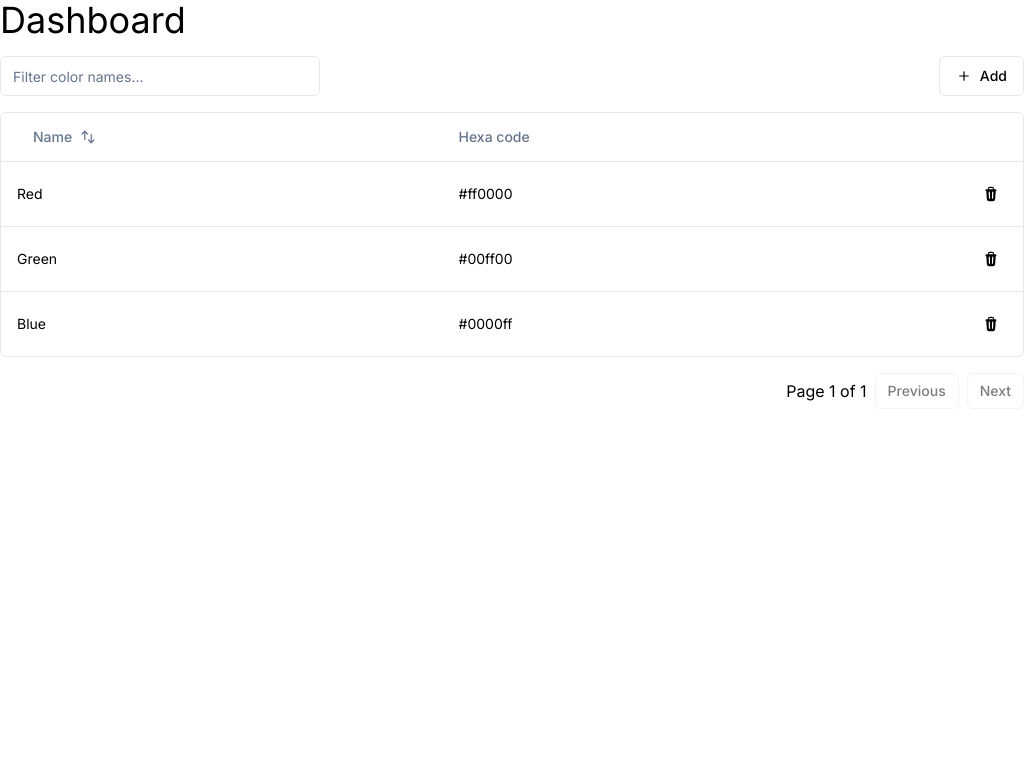
DataTable › opens delete dialog on delete button click
Click the button with test id "delete-button" at (991, 194), box [975, 178, 1007, 210]
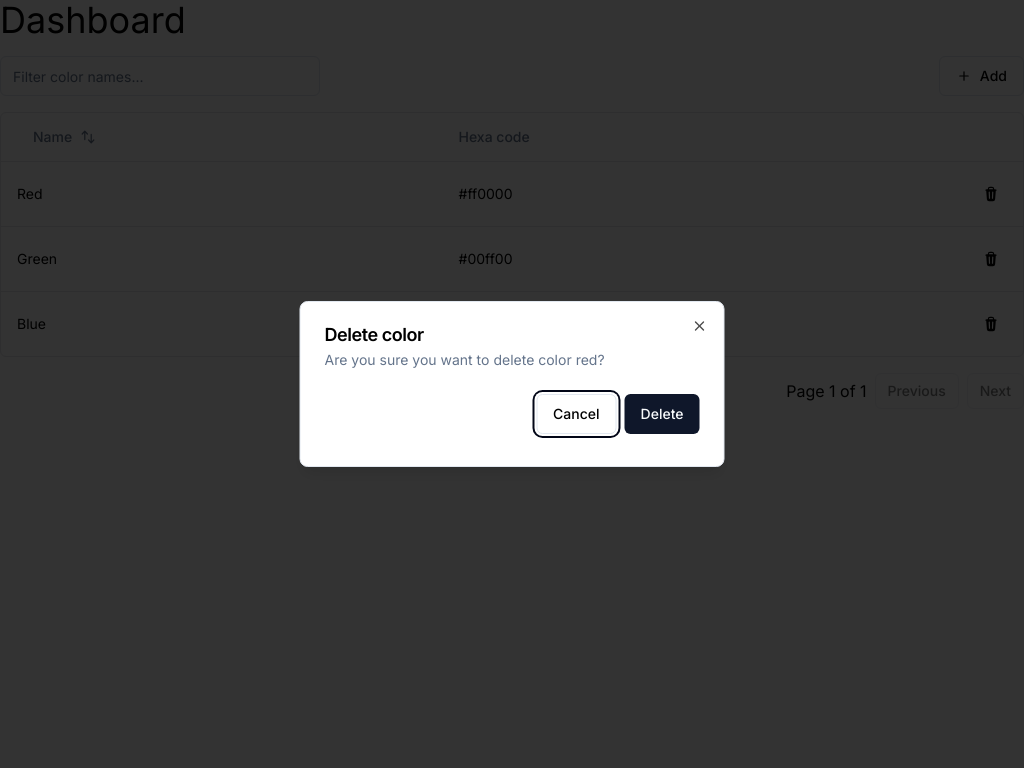
Check: the text "Are you sure you want to delete color red?" is shown, box [324, 351, 605, 368]
